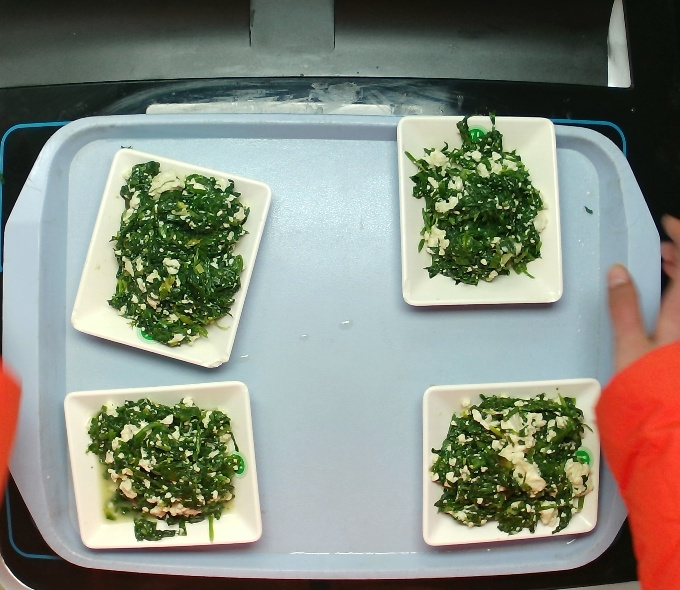wcq-QinCaiYeDouFu: (415, 378, 606, 541), (91, 164, 258, 349), (402, 118, 562, 290), (83, 383, 242, 547)
